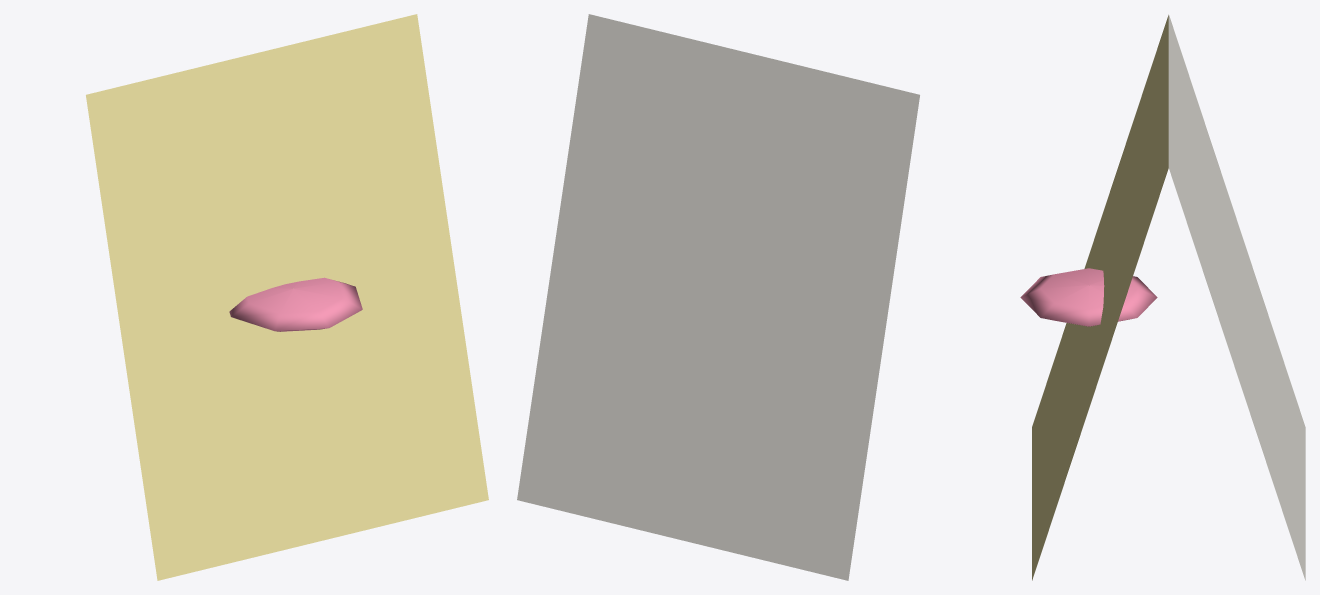
Rendered from get_well_card.glb.
The picture shows the model from 3 angles, left to right: view 1: azimuth 30°, elevation 25°; view 2: azimuth 150°, elevation 25°; view 3: azimuth 270°, elevation 25°; orthographic projection. The views are drawn at different scales.
Visible parts, largest first — view 1: get_well_card; view 2: get_well_card; view 3: get_well_card.
Boxes of the visible parts, bbox=[...] form: get_well_card: bbox=[86, 14, 488, 580]; get_well_card: bbox=[517, 14, 919, 580]; get_well_card: bbox=[1020, 14, 1305, 580].
Bounding box in the file's own units: 0.16 × 0.2 × 0.1251.
